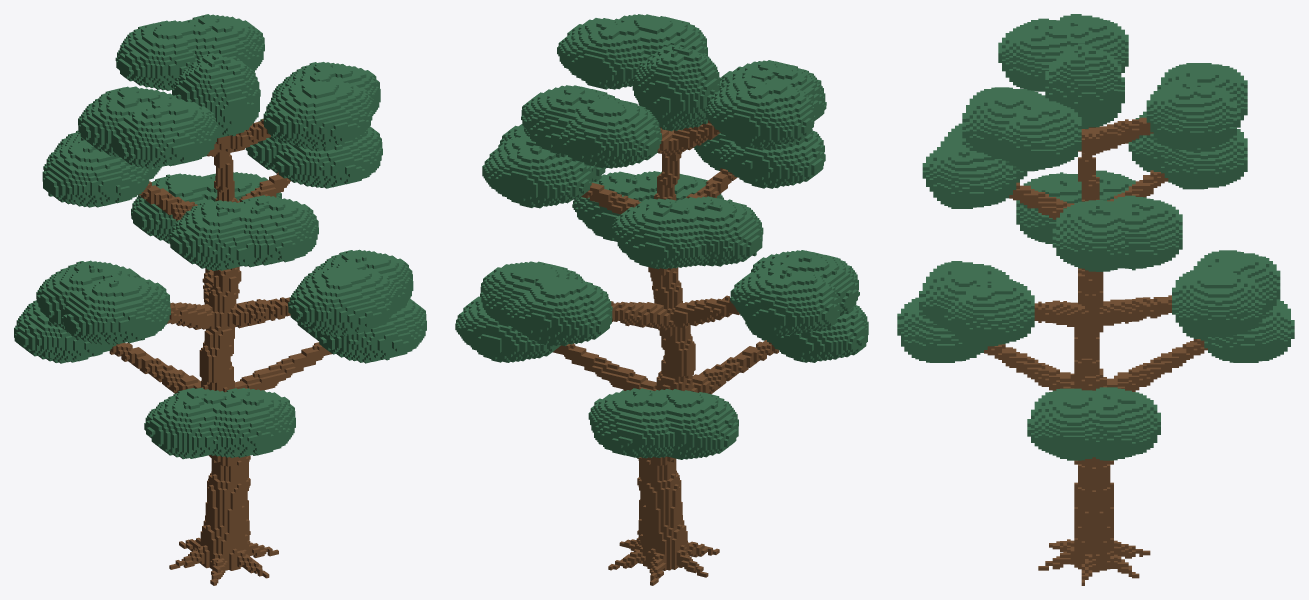
The model's file is visual-far.glb.
3 renders of one model, left to right at view 1: azimuth 30°, elevation 25°; view 2: azimuth 150°, elevation 25°; view 3: azimuth 270°, elevation 25°, orthographic.
Parts seen in each view (by area): view 1: 既有乔木色阶与高度族; view 2: 既有乔木色阶与高度族; view 3: 既有乔木色阶与高度族.
Boxes of the visible parts, x1,y1,x2,y2 form: 既有乔木色阶与高度族: (14, 14, 426, 585); 既有乔木色阶与高度族: (455, 14, 868, 585); 既有乔木色阶与高度族: (897, 14, 1294, 585).
Size of the model in its own units: 23 by 31 by 22.
3 materials, 3 textured.
